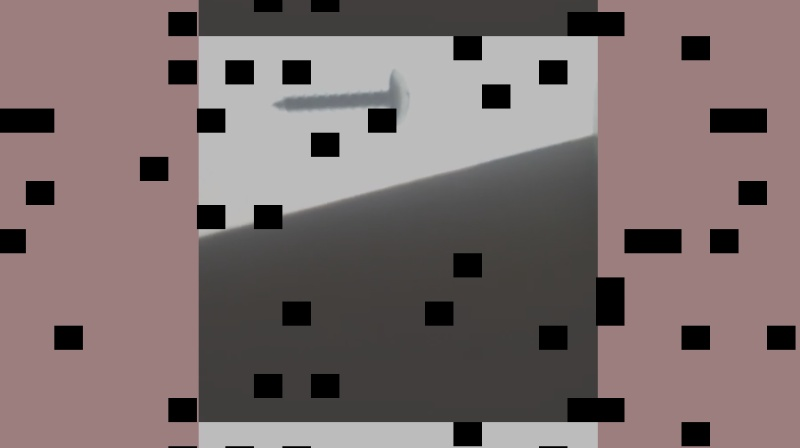S003: (269, 66, 415, 128)
